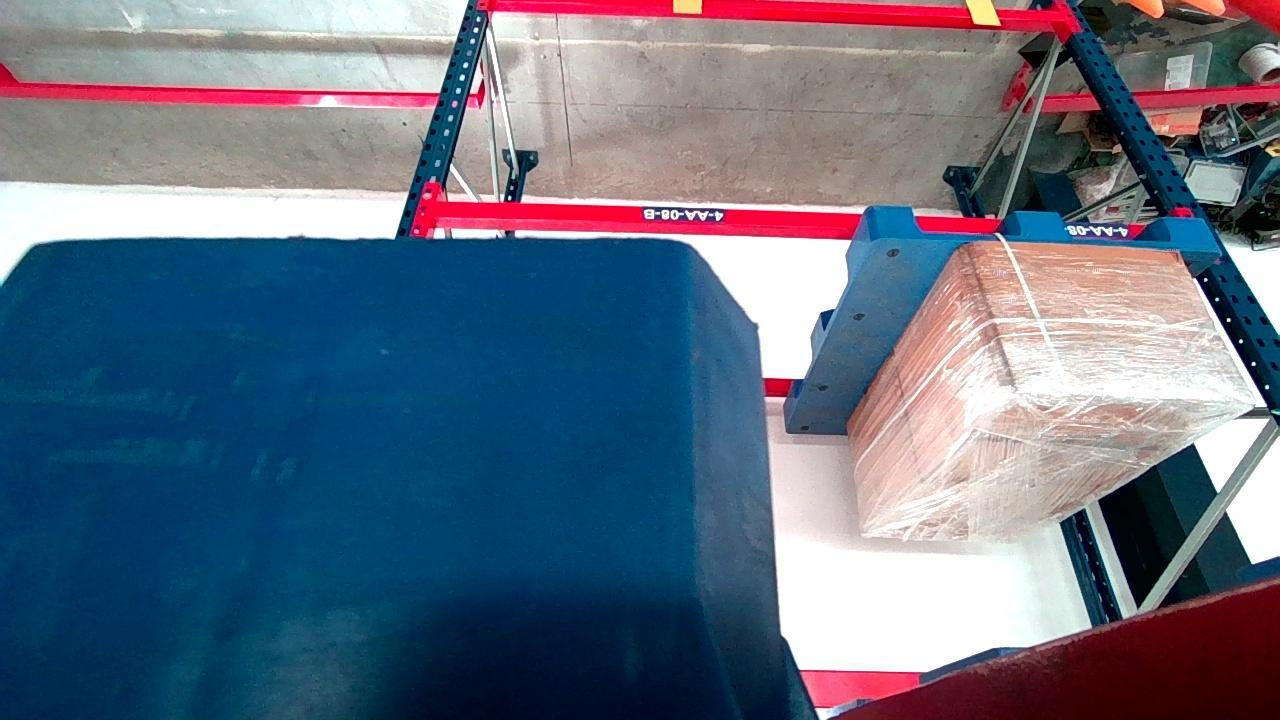h_rack: (422, 480, 848, 518), (216, 693, 793, 720)
small_pallet: (64, 465, 405, 511)
